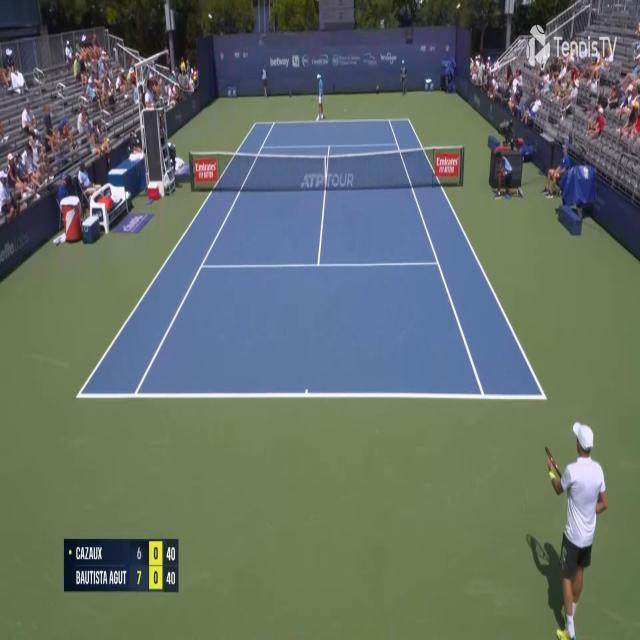tennis-player: (529, 423, 610, 638), (314, 73, 325, 124)
